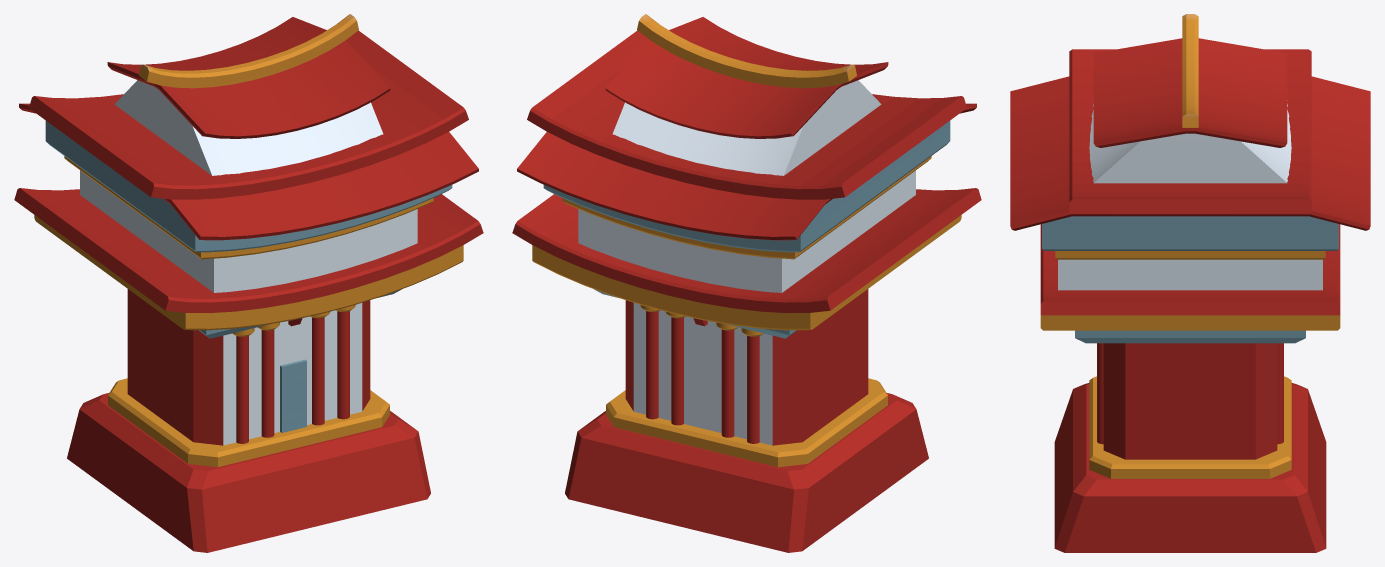
File: fushimiTemple.FBX
The picture shows the model from 3 angles, left to right: view 1: azimuth 30°, elevation 25°; view 2: azimuth 150°, elevation 25°; view 3: azimuth 270°, elevation 25°; orthographic projection.
Visible parts, largest first — view 1: S_Landmarks:S_Fushimi_Inari_Temple; view 2: S_Landmarks:S_Fushimi_Inari_Temple; view 3: S_Landmarks:S_Fushimi_Inari_Temple.
Part boxes in pixels (bbox=[...]): S_Landmarks:S_Fushimi_Inari_Temple: bbox=[14, 14, 483, 552]; S_Landmarks:S_Fushimi_Inari_Temple: bbox=[512, 14, 981, 552]; S_Landmarks:S_Fushimi_Inari_Temple: bbox=[1010, 14, 1370, 552].
Bounding box in the file's own units: 4.4 × 5.74 × 4.35.
Materials: 1 (1 with a texture image).
